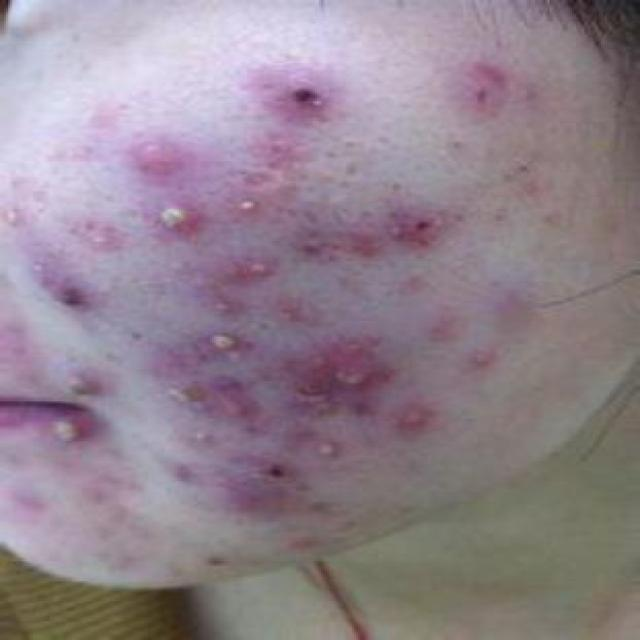blackheads: (267, 59, 348, 130), (389, 194, 453, 257), (41, 270, 109, 318), (234, 451, 298, 494)
papules: (114, 126, 192, 189)
pustules: (132, 185, 206, 248), (315, 343, 389, 402), (45, 360, 109, 411), (39, 409, 93, 458), (190, 325, 256, 363), (154, 374, 206, 417), (284, 432, 342, 470), (235, 249, 288, 288), (222, 188, 272, 222)
